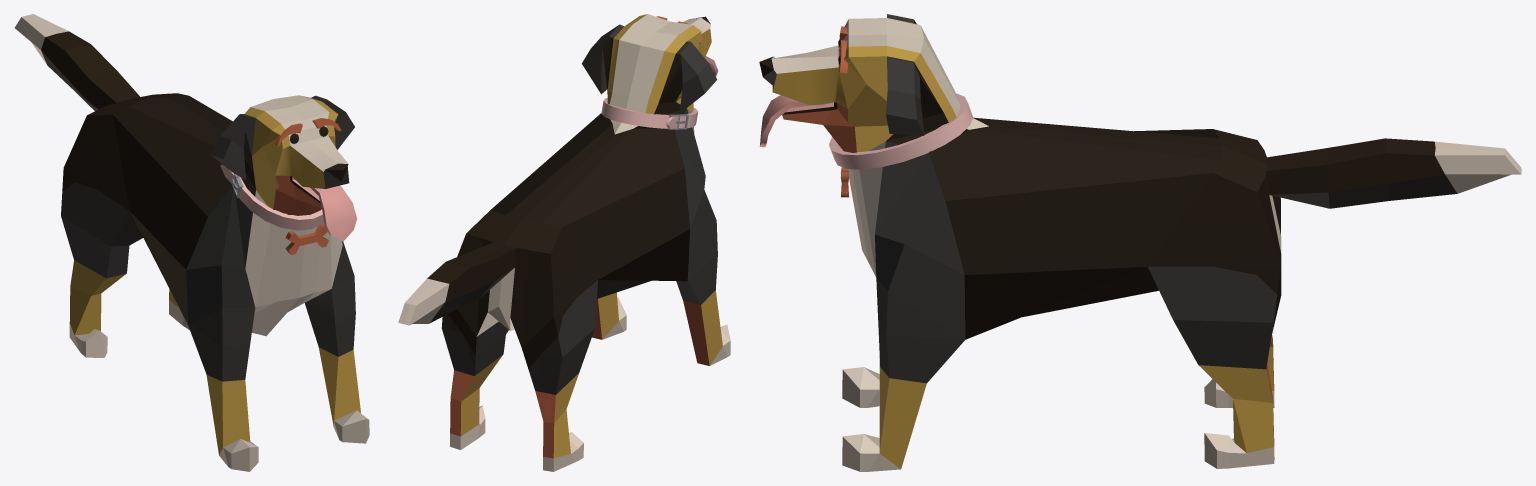
File: 3fn1S0FAyCI.glb
3 renders of one model, left to right at view 1: azimuth 30°, elevation 25°; view 2: azimuth 150°, elevation 25°; view 3: azimuth 270°, elevation 25°, orthographic. The views are drawn at different scales.
Visible parts, largest first — view 1: Dog_w_Collar; view 2: Dog_w_Collar; view 3: Dog_w_Collar.
Boxes of the visible parts, <box> form: Dog_w_Collar: <box>14,14,369,471</box>; Dog_w_Collar: <box>398,14,730,471</box>; Dog_w_Collar: <box>759,14,1521,471</box>.
Bounding box in the file's own units: 0.4312 × 1 × 1.72.
1 material, 1 textured.
